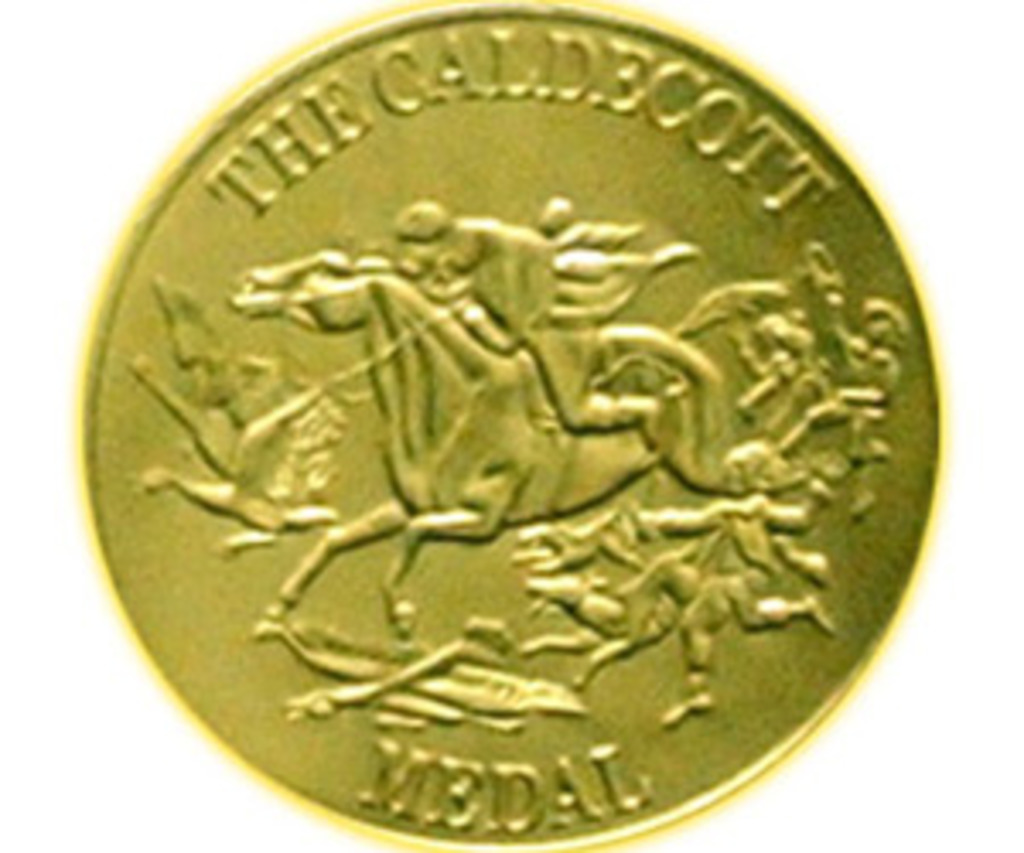Coin: (80, 0, 947, 853)
